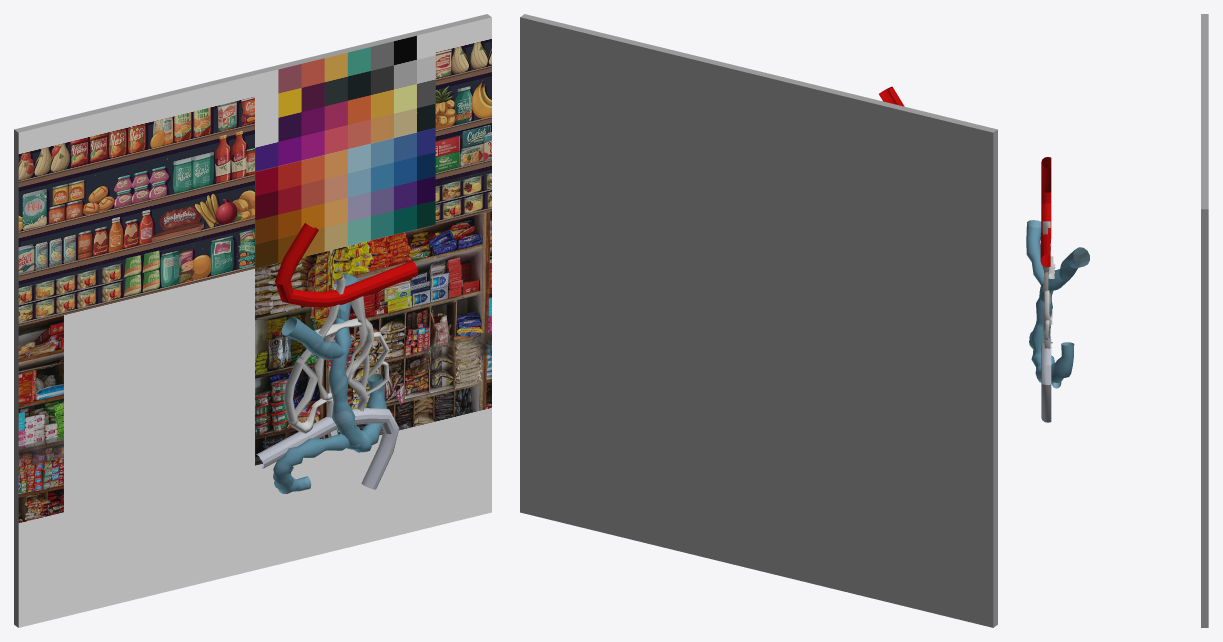
File: blood vessels.fbx
3 views of the same model, side by side, from view 1: azimuth 30°, elevation 25°; view 2: azimuth 150°, elevation 25°; view 3: azimuth 270°, elevation 25° (orthographic). The views are drawn at different scales.
Parts seen in each view (by area): view 1: pCube2, pCylinder87, pCylinder186, pCylinder175, polySurface1, pCylinder169, polySurface2, pCylinder173, pCylinder68; view 2: pCube2; view 3: pCube2, pCylinder186, pCylinder87, pCylinder175, polySurface2.
Part boxes in pixels (bbox=[...]): pCube2: bbox=[14, 14, 491, 627]; pCylinder87: bbox=[275, 223, 418, 307]; pCylinder186: bbox=[328, 273, 387, 452]; pCylinder175: bbox=[256, 408, 399, 489]; polySurface1: bbox=[273, 434, 360, 493]; pCylinder169: bbox=[287, 272, 345, 433]; polySurface2: bbox=[281, 316, 345, 360]; pCylinder173: bbox=[314, 296, 367, 400]; pCylinder68: bbox=[348, 318, 374, 411]; pCube2: bbox=[520, 14, 997, 627]; pCube2: bbox=[1201, 14, 1208, 627]; pCylinder186: bbox=[1031, 247, 1089, 384]; pCylinder87: bbox=[1040, 157, 1051, 267]; pCylinder175: bbox=[1041, 328, 1051, 422]; polySurface2: bbox=[1026, 220, 1043, 286].
Size of the model in its own units: 18.47 by 18.47 by 7.29.
